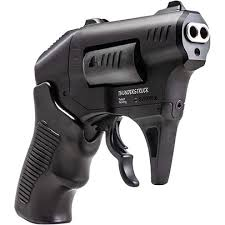gun: (14, 1, 211, 225)
